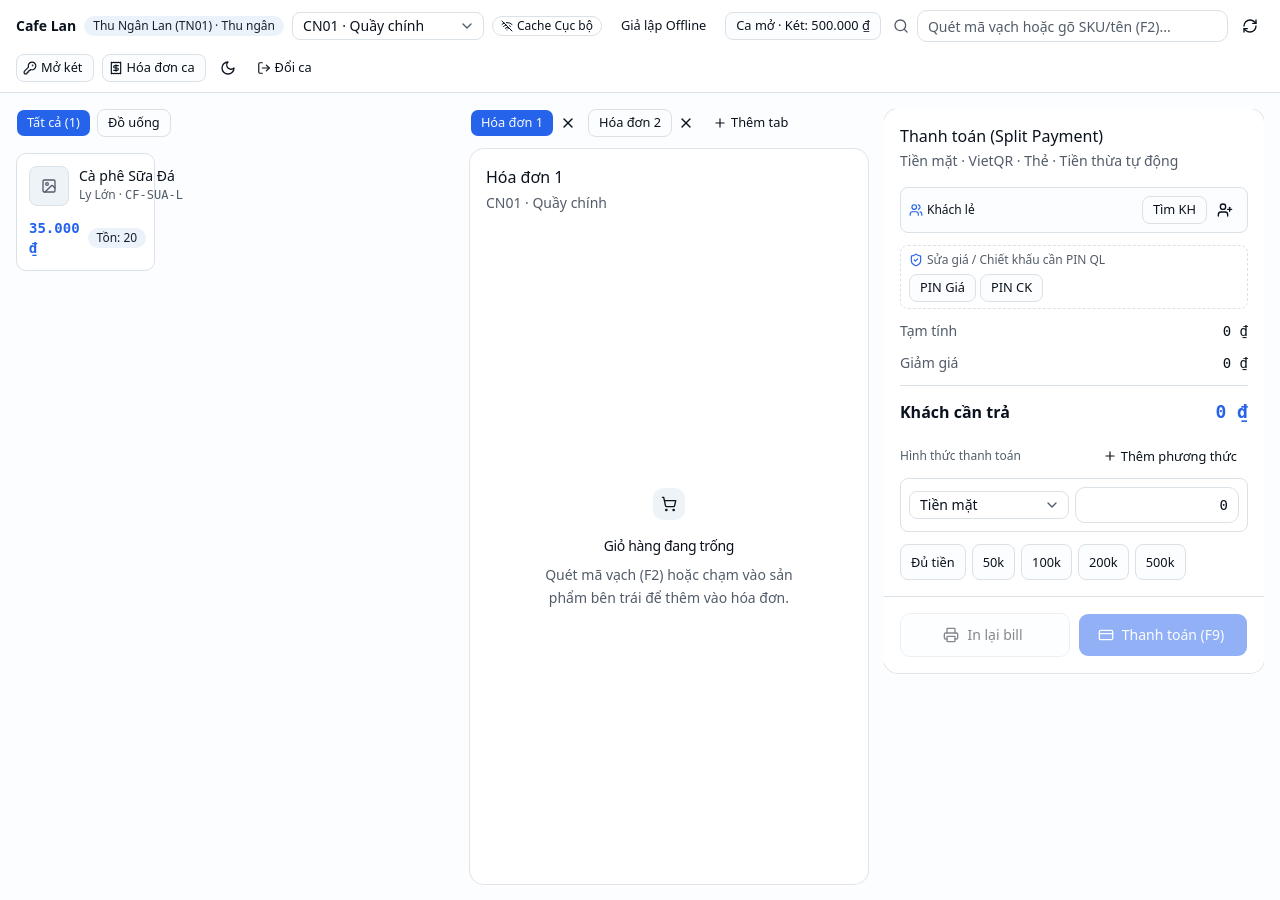
Scenario: Phase 3 POS Terminal & IndexedDB Cache › opens a register shift, scans barcode to cart, preserves multi-tab state, and completes checkout with K58/K80 receipt
Earlier steps of the test are not shown.
Check: the button "Ca mở · Két: 500.000 ₫" is shown, box [725, 12, 881, 40]
Type "8931234567890" into the field named "Tìm hàng hóa hoặc quét mã vạch" at (1072, 26), box [917, 10, 1228, 42]
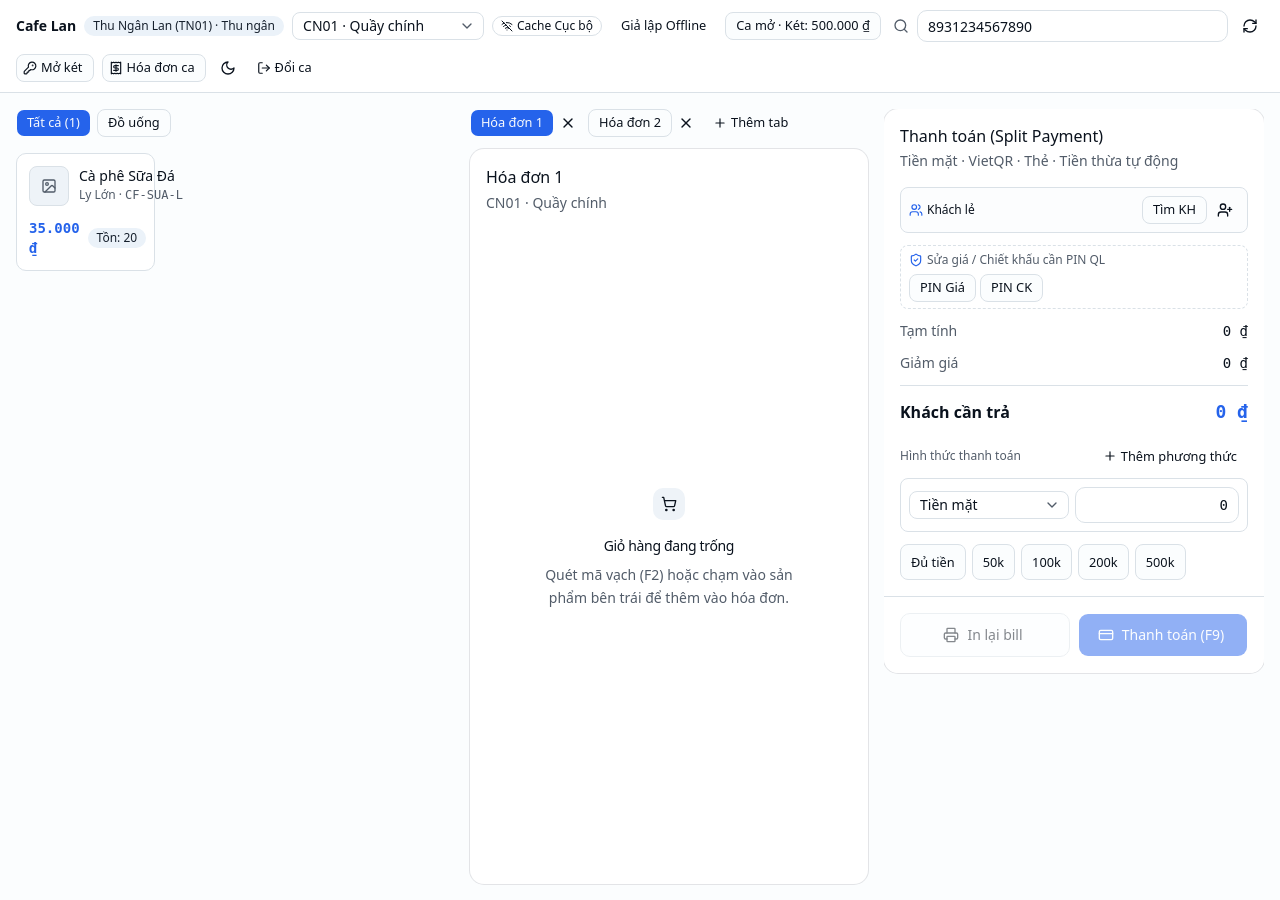
Submit the form named "Tìm hàng hóa hoặc quét mã vạch", box [893, 10, 1264, 42]
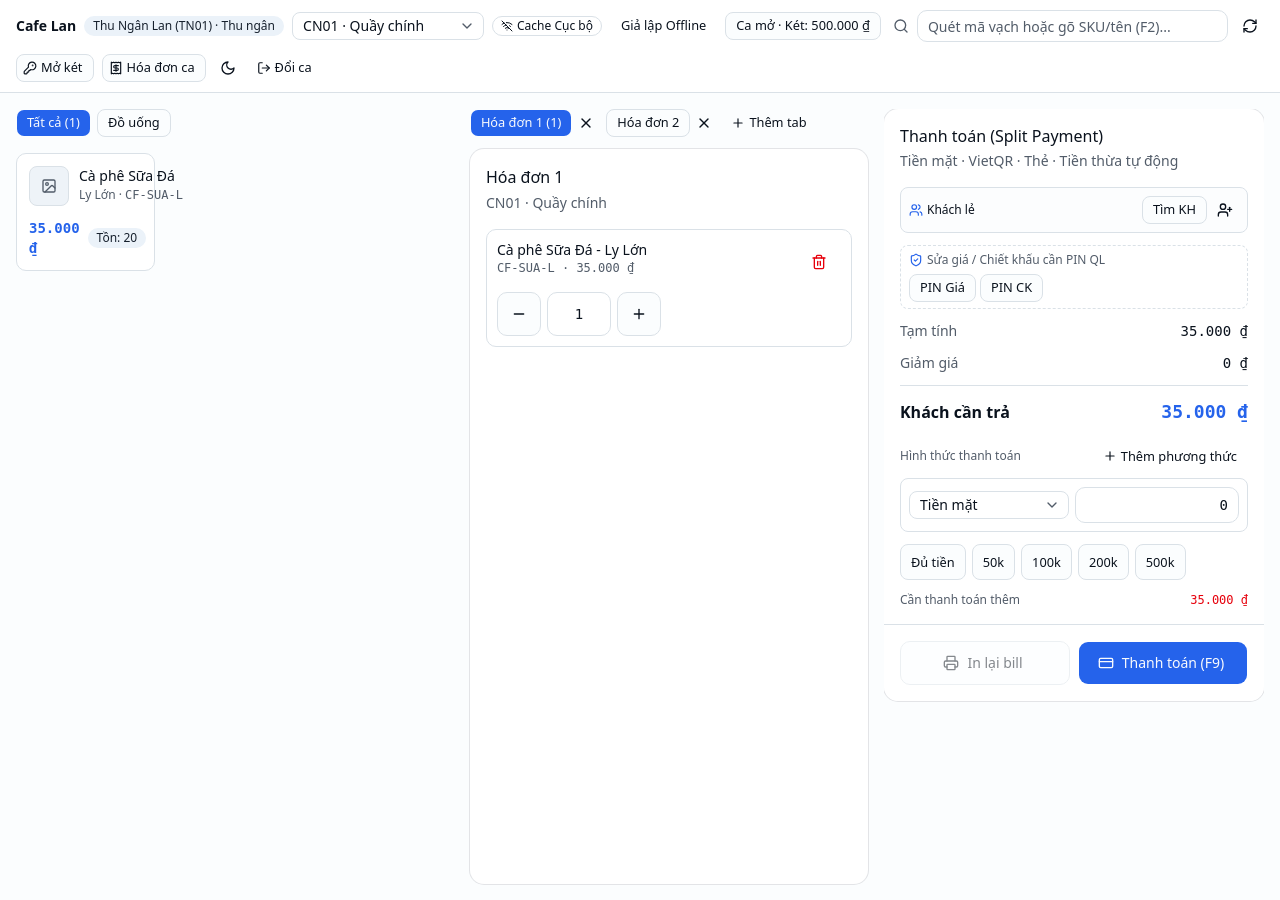
Check: the text "Cà phê Sữa Đá - Ly Lớn" is shown, box [497, 240, 647, 260]
Switch to Hóa đơn 2 (empty), then back to Hóa đơn 1 (item preserved)
Click the button "Hóa đơn 2" at (648, 123), box [606, 109, 690, 137]
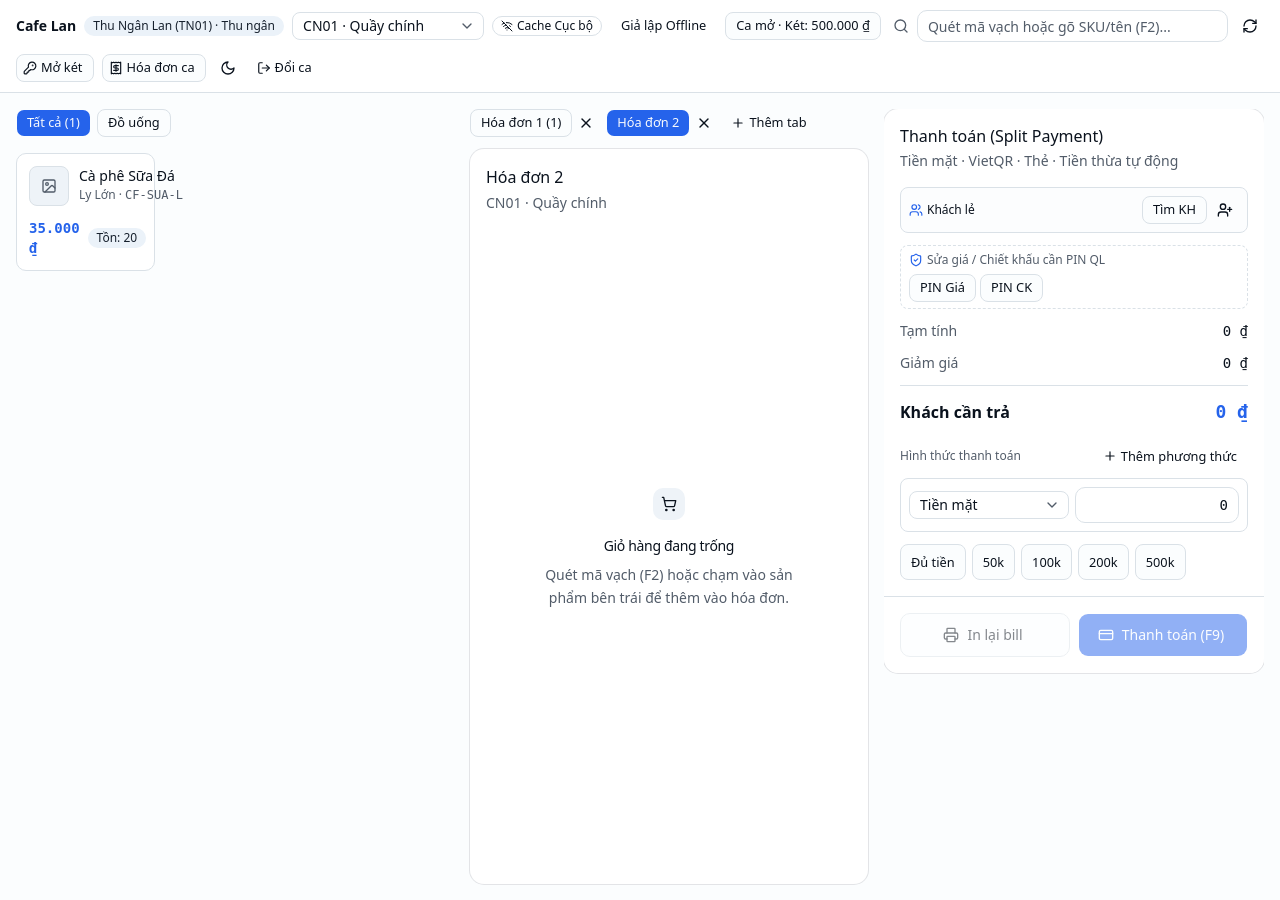
Check: the text "Cà phê Sữa Đá - Ly Lớn" is gone
Click the button "Hóa đơn 1 (1)" at (521, 123), box [470, 109, 572, 137]
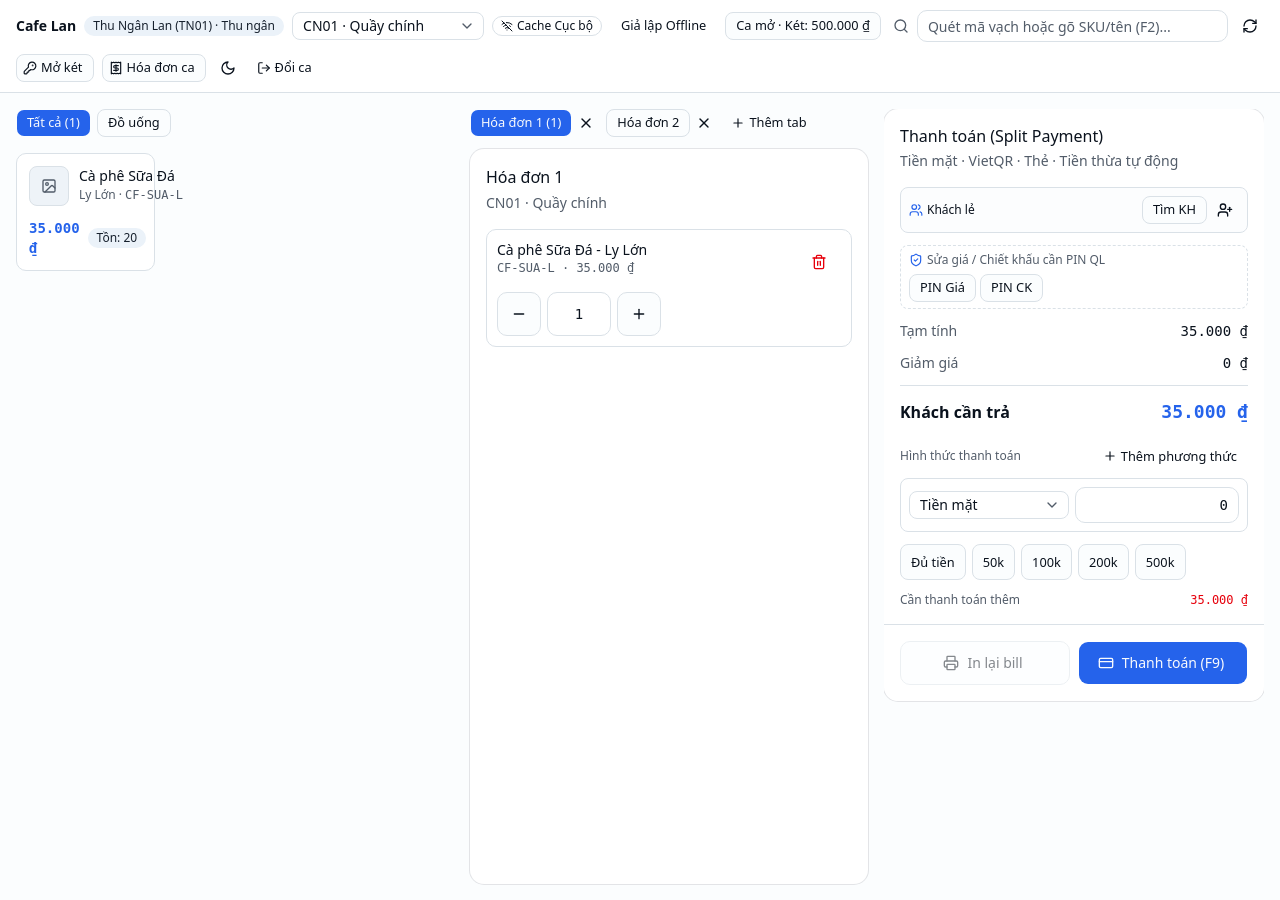
Check: the text "Cà phê Sữa Đá - Ly Lớn" is shown, box [497, 240, 647, 260]
Click the button "50k" at (993, 562), box [972, 544, 1015, 580]
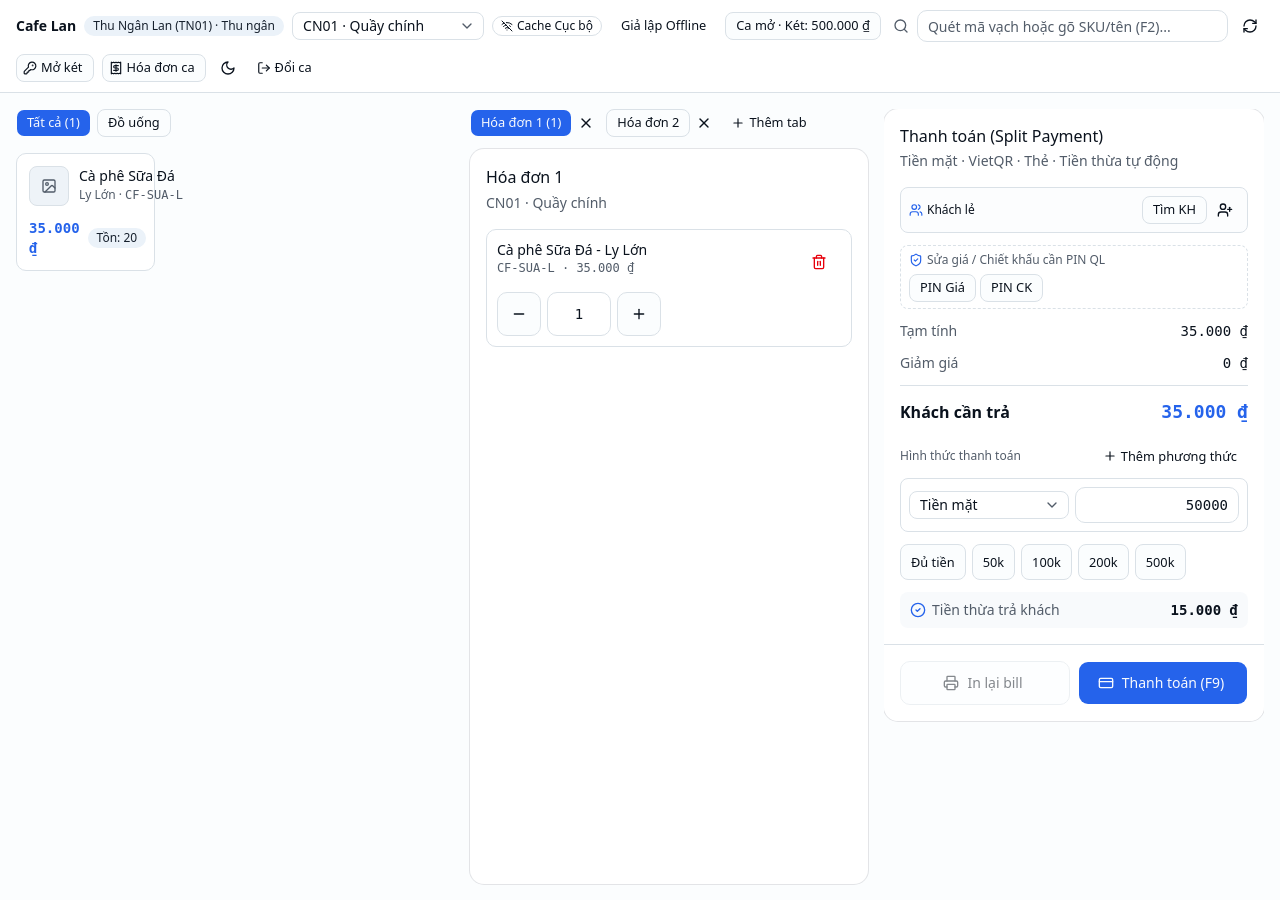
Click the button "Thanh toán (F9)" at (1163, 683), box [1078, 661, 1248, 705]
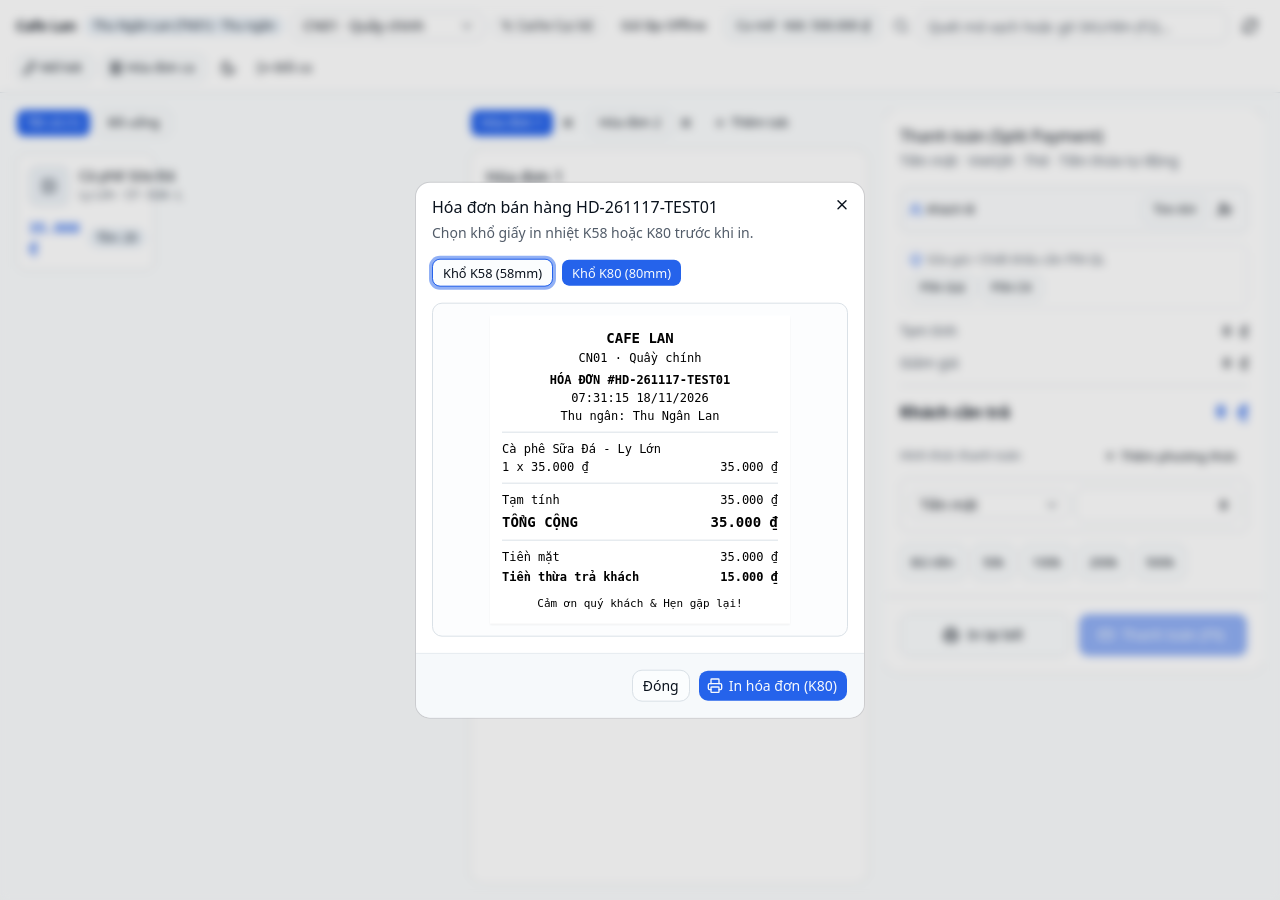
Check: the text "Tiền thừa trả khách" is shown, box [502, 569, 639, 585]
Check: the heading "Hóa đơn bán hàng HD-261117-TEST01" is shown, box [432, 196, 718, 218]
